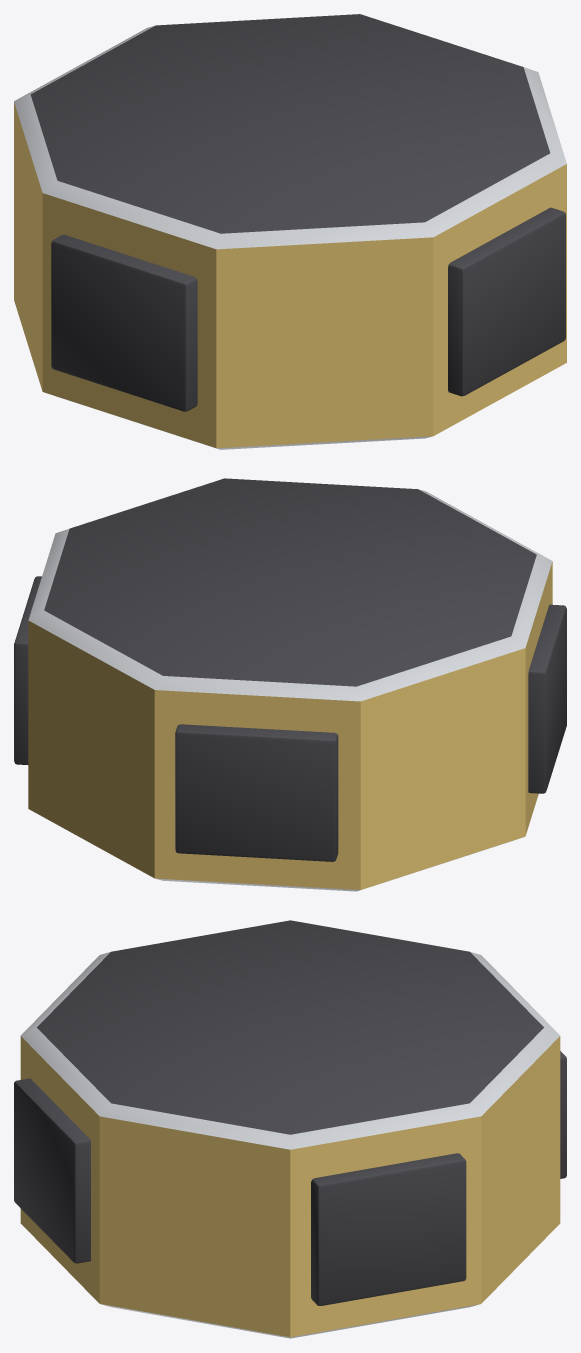
Rendered from probe_s.glb.
The picture shows the model from 3 angles, top to bottom: view 1: azimuth 30°, elevation 25°; view 2: azimuth 150°, elevation 25°; view 3: azimuth 270°, elevation 25°; orthographic projection. The views are drawn at different scales.
Visible parts, largest first — view 1: probe_s; view 2: probe_s; view 3: probe_s.
Boxes of the visible parts, x1,y1,x2,y2 form: probe_s: [14, 14, 566, 449]; probe_s: [14, 478, 566, 891]; probe_s: [14, 920, 566, 1338].
Size of the model in its own units: 0.6146 by 0.25 by 0.6146.
